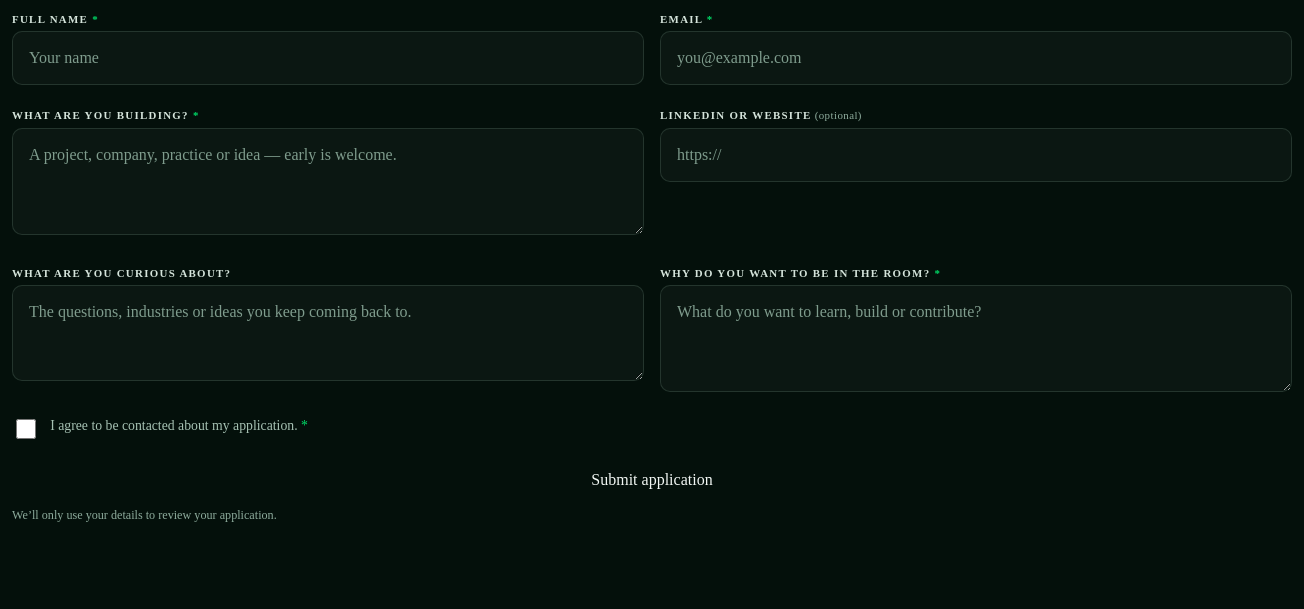
Test: ApplicationForm › shows accessible field errors and does not submit invalid data
The width and height of the screenshot is (1304, 609).
Click the button "Submit application" at (652, 480), box [12,466,1292,494]
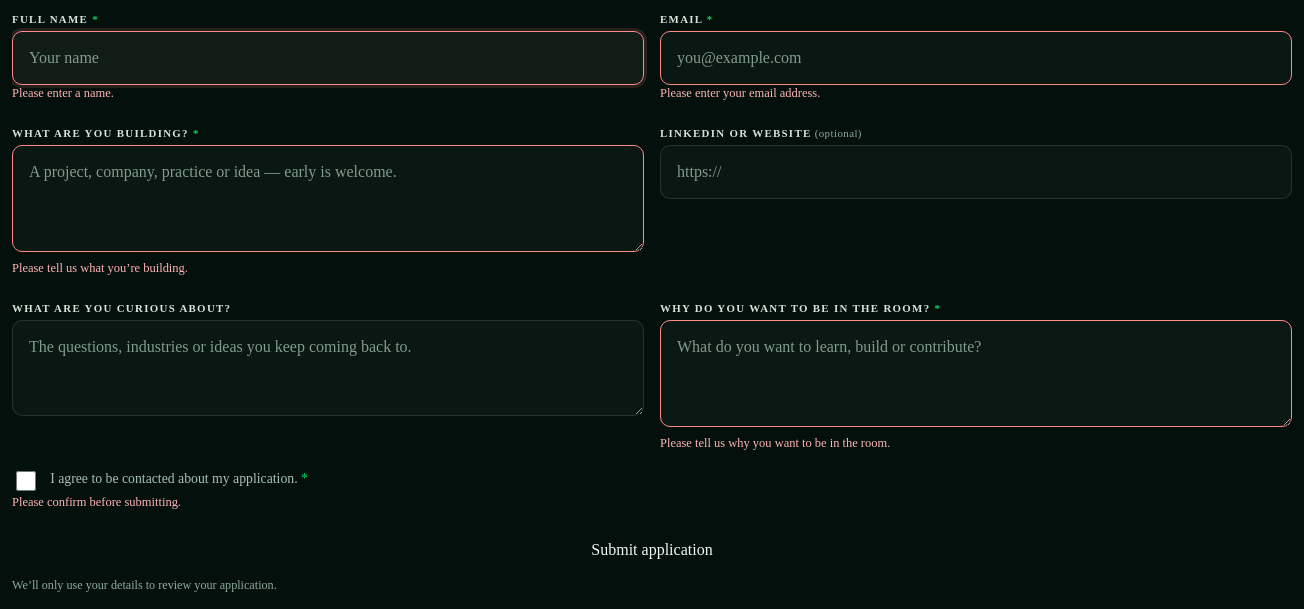
Expected: the text "Please enter a name." is shown, [12,86,114,100]
Expected: the text "Please enter your email address." is shown, [660,86,820,100]
Expected: the text "Please tell us what you’re building." is shown, [12,261,188,275]
